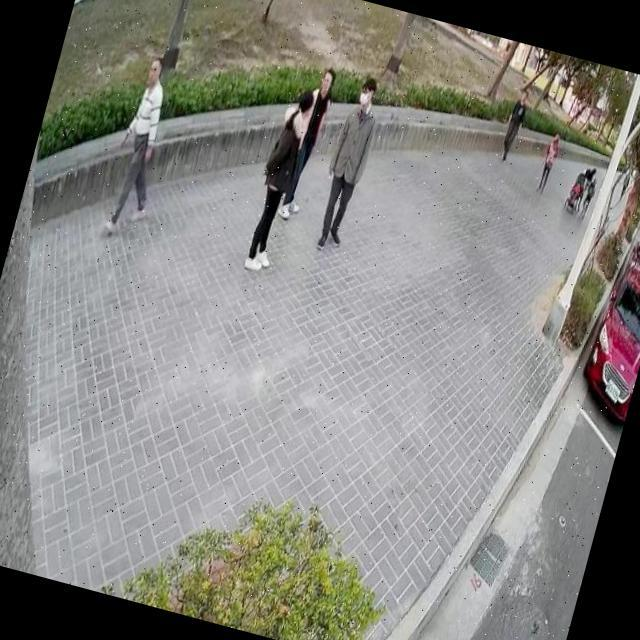person: (233, 76, 320, 278), (96, 51, 188, 240), (304, 68, 389, 258), (273, 60, 340, 226), (494, 82, 534, 166), (532, 126, 564, 196), (569, 157, 599, 216), (575, 171, 601, 223)
